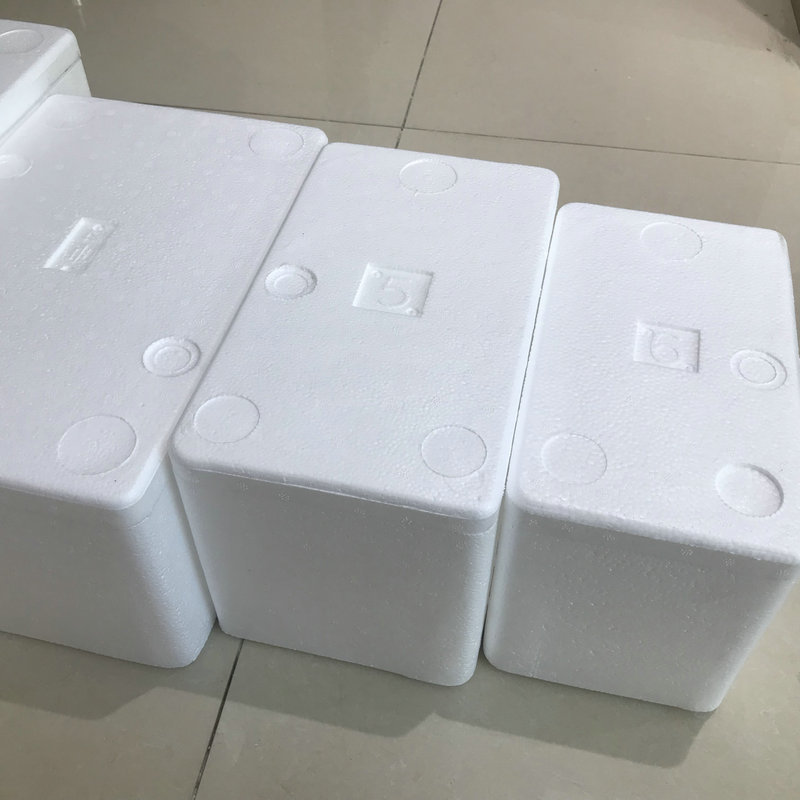Boxes: (173, 145, 800, 712), (0, 96, 325, 666)
